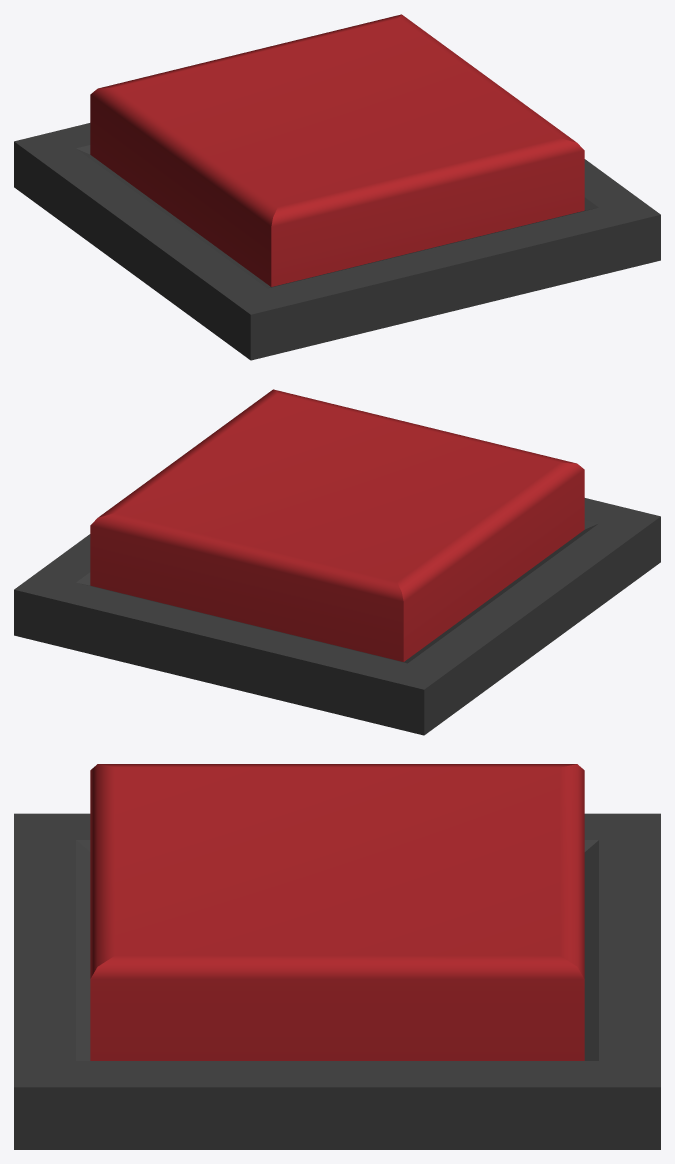
File: square_button.fbx
3 renders of one model, top to bottom at view 1: azimuth 30°, elevation 25°; view 2: azimuth 150°, elevation 25°; view 3: azimuth 270°, elevation 25°, orthographic. The views are drawn at different scales.
Visible parts, largest first — view 1: SquareButton, SquareButton_Base; view 2: SquareButton, SquareButton_Base; view 3: SquareButton, SquareButton_Base.
Boxes of the visible parts, x1,y1,x2,y2 form: SquareButton: (90, 14, 584, 286); SquareButton_Base: (14, 123, 660, 360); SquareButton: (90, 389, 584, 661); SquareButton_Base: (14, 498, 660, 735); SquareButton: (90, 764, 584, 1060); SquareButton_Base: (14, 813, 660, 1149).
Bounding box in the file's own units: 20.03 × 5.18 × 20.03.
